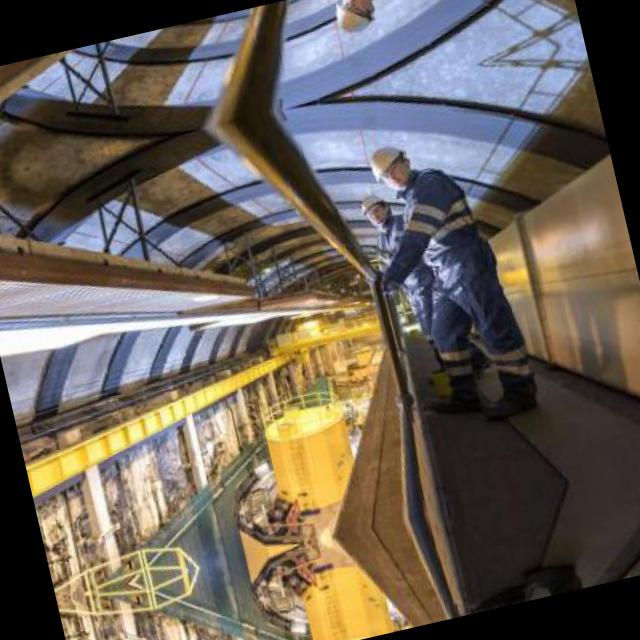helmet: (364, 136, 418, 190), (329, 0, 384, 40), (356, 183, 402, 230), (311, 0, 351, 4)
